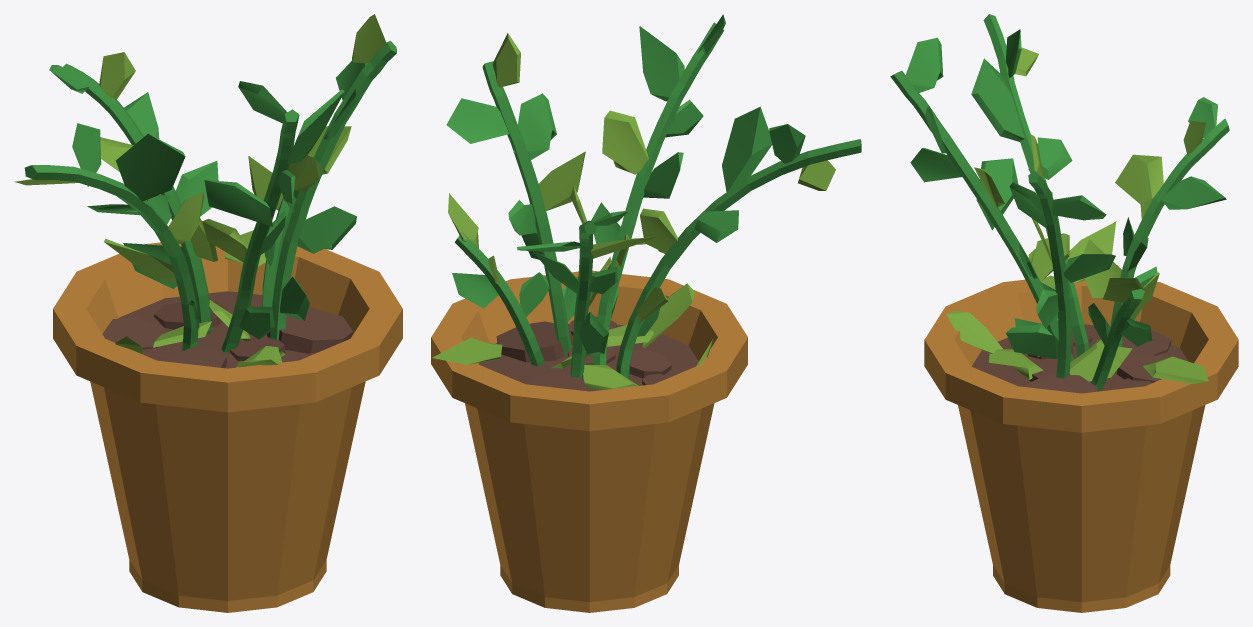
The model's file is Plant - Flower Pot.glb.
3 views of the same model, side by side, from view 1: azimuth 30°, elevation 25°; view 2: azimuth 150°, elevation 25°; view 3: azimuth 270°, elevation 25° (orthographic). The views are drawn at different scales.
Parts seen in each view (by area): view 1: node_MeshObject-1927842816-PolyPaper19; view 2: node_MeshObject-1927842816-PolyPaper19; view 3: node_MeshObject-1927842816-PolyPaper19.
Boxes of the visible parts, x1,y1,x2,y2 form: node_MeshObject-1927842816-PolyPaper19: (14, 14, 402, 612); node_MeshObject-1927842816-PolyPaper19: (431, 14, 861, 612); node_MeshObject-1927842816-PolyPaper19: (890, 14, 1238, 612).
Bounding box in the file's own units: 0.2525 × 0.3393 × 0.2107.
